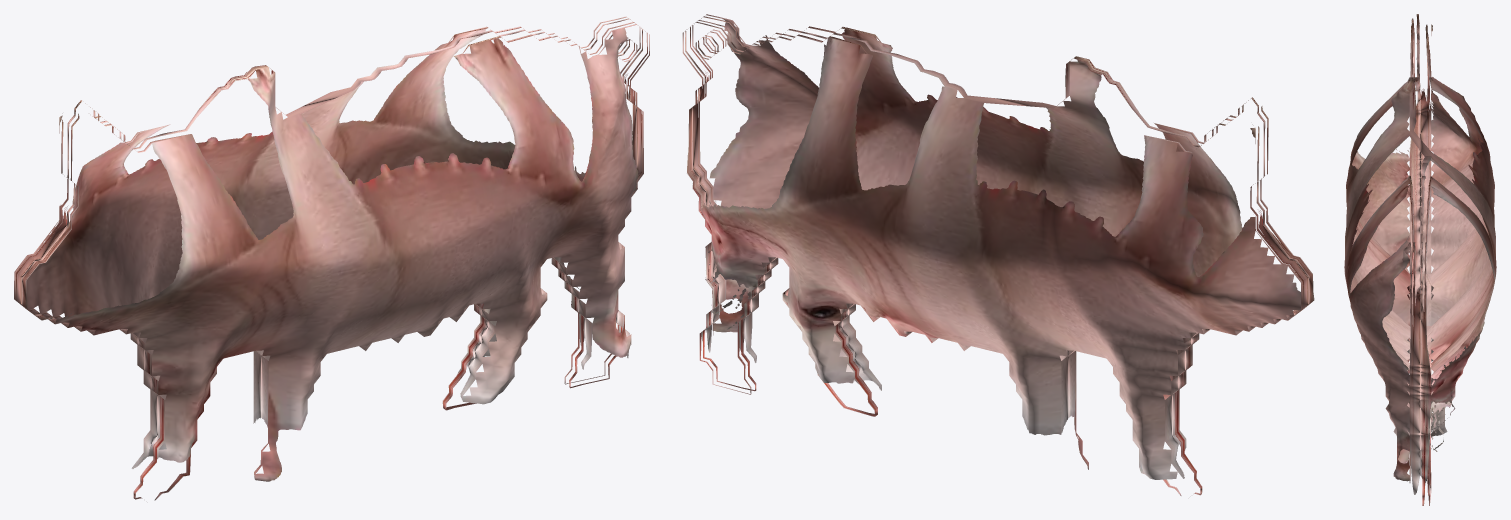
Rendered from pig.glb.
3 renders of one model, left to right at view 1: azimuth 30°, elevation 25°; view 2: azimuth 150°, elevation 25°; view 3: azimuth 270°, elevation 25°, orthographic. The views are drawn at different scales.
Visible parts, largest first — view 1: reconstruction_artistique_non_anatomique_pig; view 2: reconstruction_artistique_non_anatomique_pig; view 3: reconstruction_artistique_non_anatomique_pig.
Part boxes in pixels (left/top/right/bottom): reconstruction_artistique_non_anatomique_pig: left=14, top=16, right=649, bottom=500; reconstruction_artistique_non_anatomique_pig: left=682, top=14, right=1314, bottom=495; reconstruction_artistique_non_anatomique_pig: left=1344, top=14, right=1496, bottom=505.
Bounding box in the file's own units: 3.7 × 2.45 × 1.07.
1 material, 1 textured.
